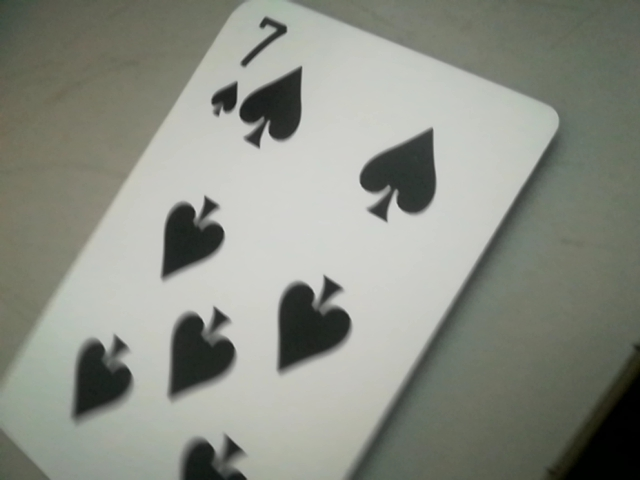ht 7: (209, 0, 297, 138)
